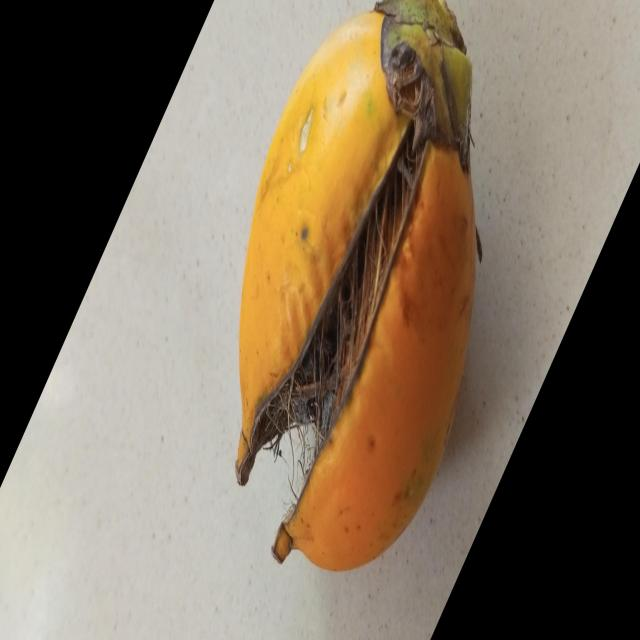damaged: (235, 0, 482, 571)
